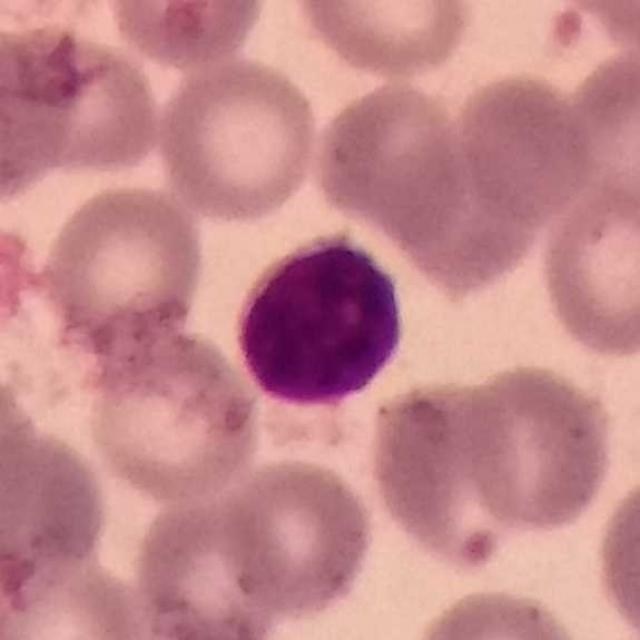Lymphocyte: (228, 228, 412, 411)
RBC: (364, 373, 532, 578), (80, 320, 264, 506), (34, 179, 210, 357), (448, 358, 619, 539), (152, 52, 324, 226), (216, 452, 379, 622), (307, 78, 471, 243), (129, 486, 295, 640), (449, 66, 598, 225), (534, 168, 640, 362), (0, 423, 114, 599), (28, 38, 156, 189), (552, 44, 640, 222), (290, 0, 477, 82), (1, 551, 148, 640), (99, 0, 274, 69), (404, 582, 591, 640), (590, 465, 640, 639), (0, 362, 42, 551), (551, 0, 640, 53), (0, 0, 80, 30)
